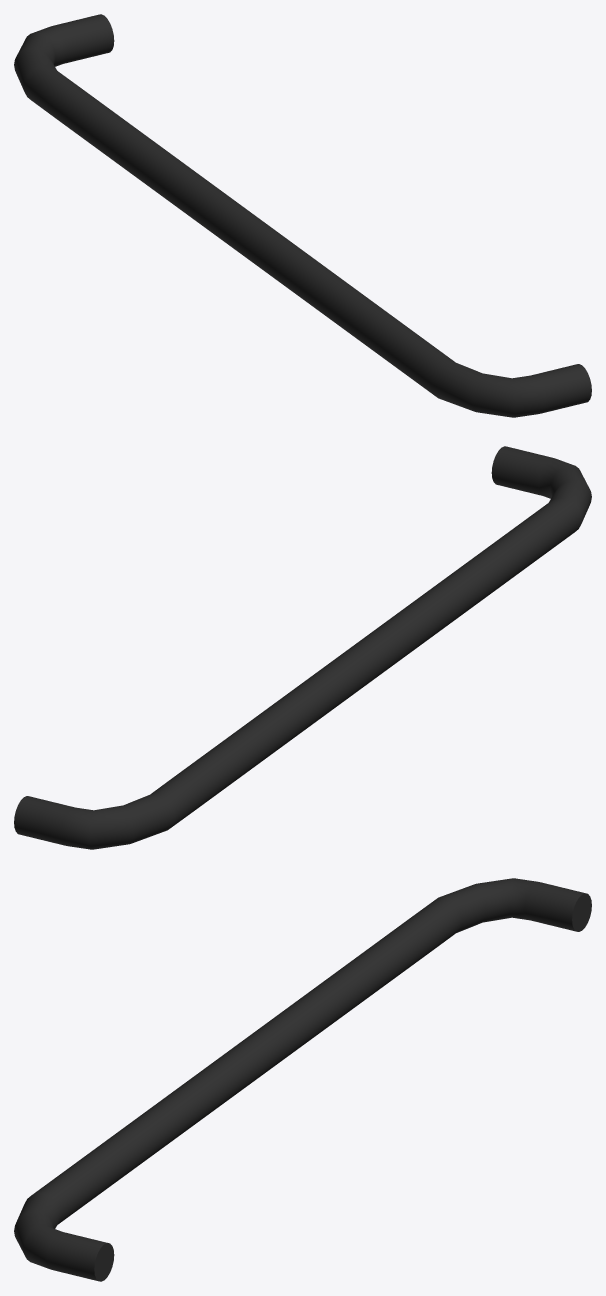
The model's file is PoleRack.fbx.
3 renders of one model, top to bottom at view 1: azimuth 30°, elevation 25°; view 2: azimuth 150°, elevation 25°; view 3: azimuth 330°, elevation 25°, orthographic.
Parts seen in each view (by area): view 1: pCylinder47; view 2: pCylinder47; view 3: pCylinder47.
Boxes of the visible parts, left/top/right/bottom form: pCylinder47: left=14, top=14, right=591, bottom=417; pCylinder47: left=14, top=446, right=591, bottom=849; pCylinder47: left=14, top=878, right=591, bottom=1281.
Size of the model in its own units: 0.1735 by 0.0519 by 1.29.
